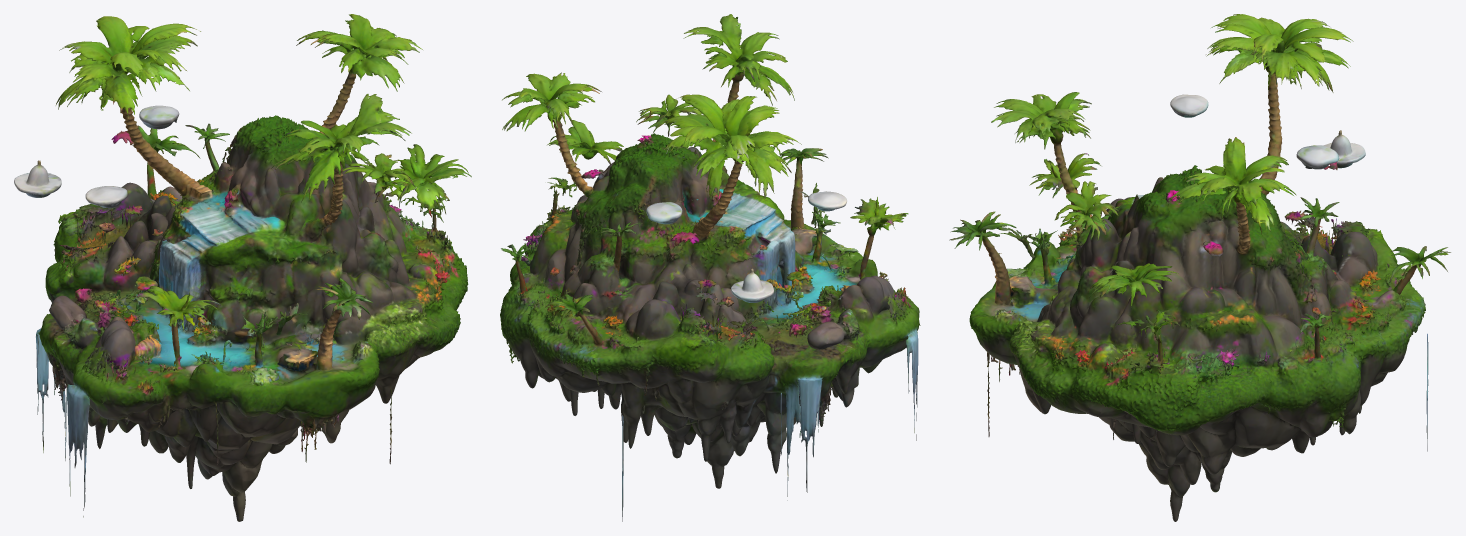
The model's file is Meshy_AI__garden_floating_ga_1016211420_texture.fbx.
3 renders of one model, left to right at view 1: azimuth 30°, elevation 25°; view 2: azimuth 150°, elevation 25°; view 3: azimuth 270°, elevation 25°, orthographic. The views are drawn at different scales.
Visible parts, largest first — view 1: Mesh_0; view 2: Mesh_0; view 3: Mesh_0.
Part boxes in pixels (x1=…): Mesh_0: x1=14, y1=14, x2=471, y2=521; Mesh_0: x1=500, y1=14, x2=920, y2=521; Mesh_0: x1=949, y1=14, x2=1450, y2=521.
Bounding box in the file's own units: 181 × 199 × 193.
1 material, 1 textured.
